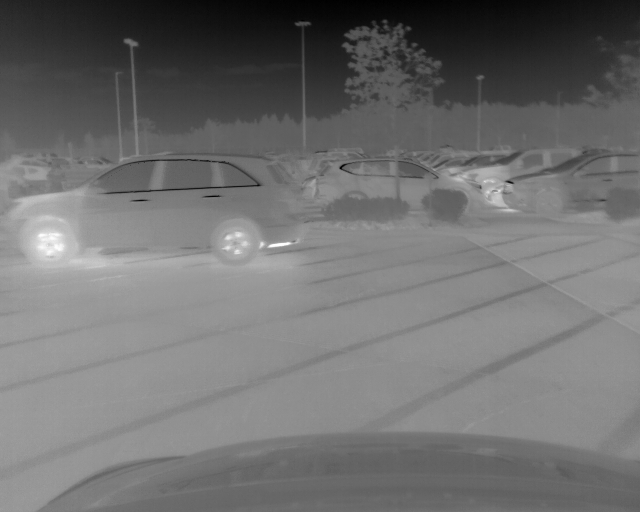car: (5, 149, 310, 268), (314, 155, 483, 217), (501, 149, 640, 218), (456, 147, 584, 207), (12, 156, 50, 183), (79, 154, 115, 170)
people: (45, 162, 64, 190)
